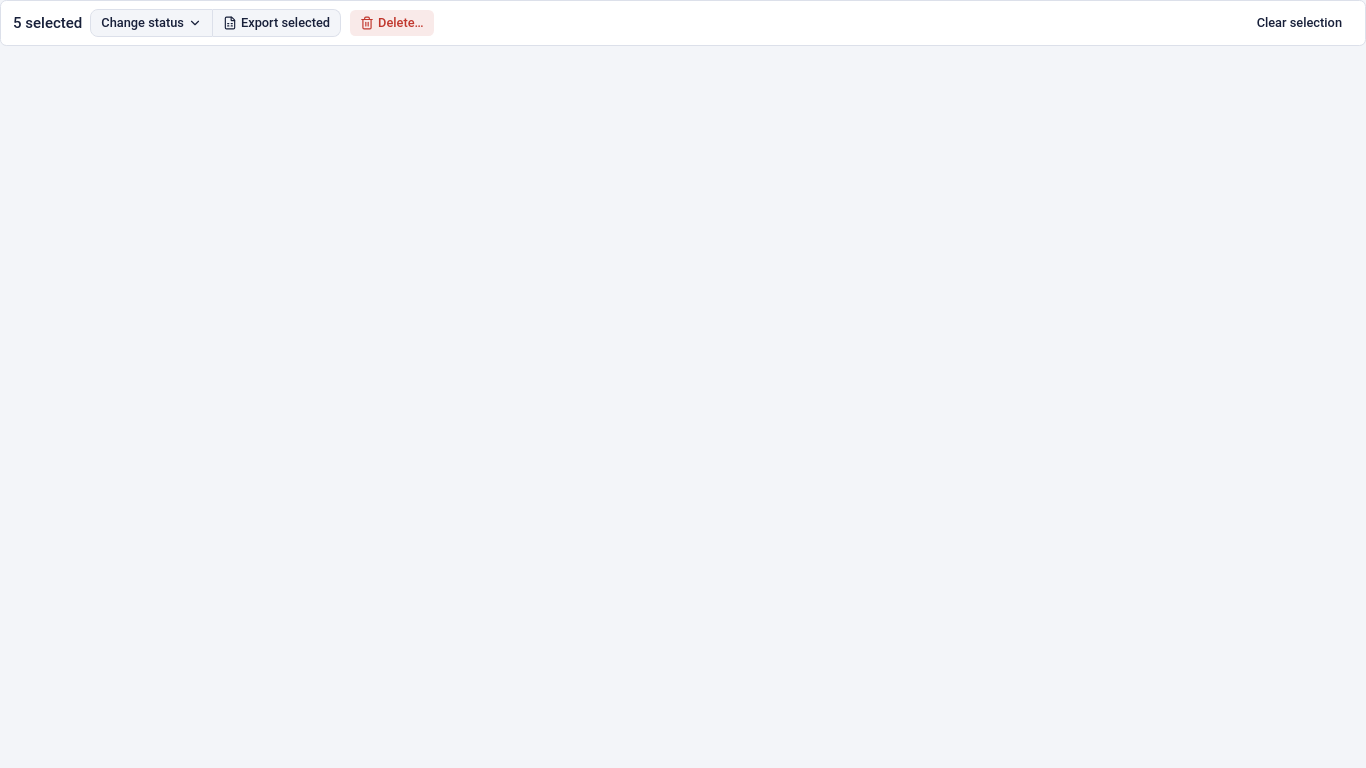
BulkBar delete › asks first, with Cancel focused and a destructive confirm
The width and height of the screenshot is (1366, 768).
Click the button "Delete…" at (392, 23), box [349,9,435,37]
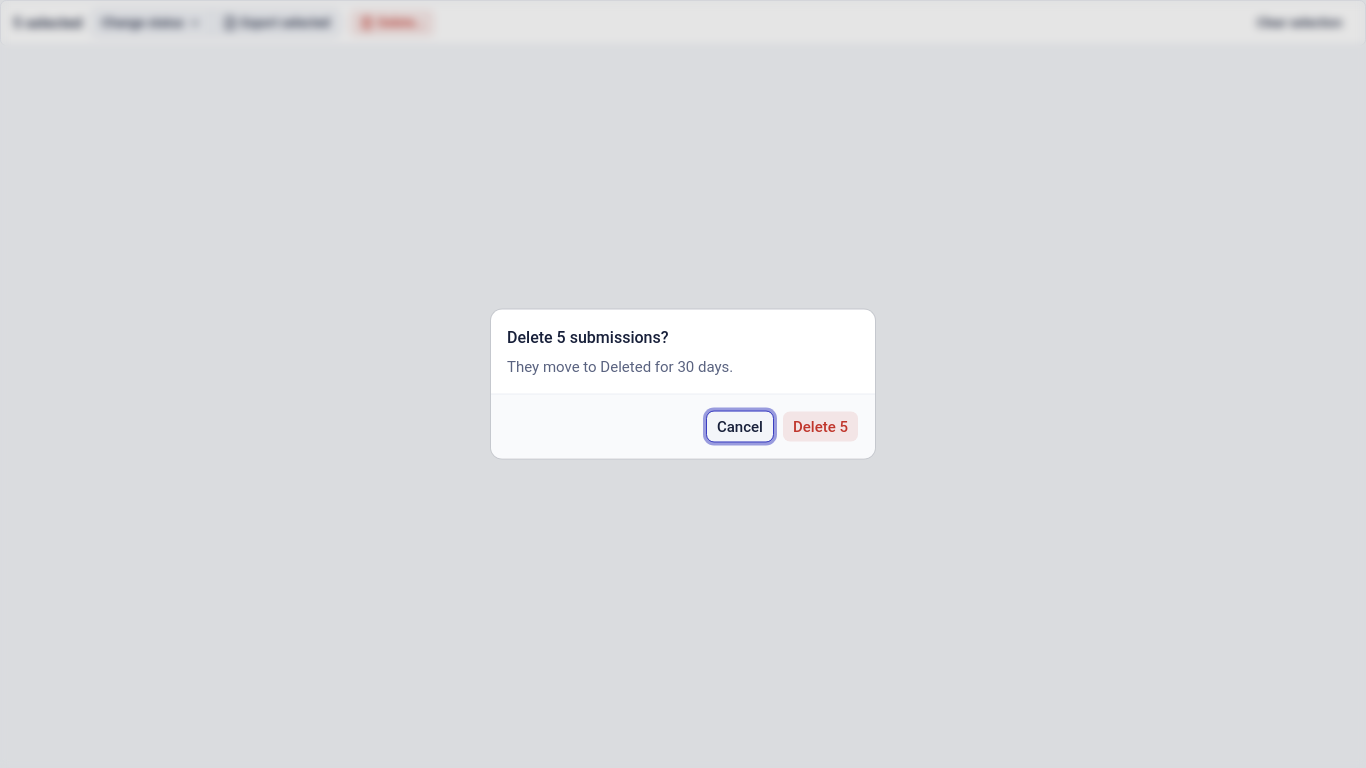
Check: the dialog shows "Delete 5 submissions?", box [507,328,669,346]
Check: the dialog shows "They move to Deleted for 30 days.", box [507,358,733,376]
Check: the button "Cancel" is shown, box [706,410,774,442]
